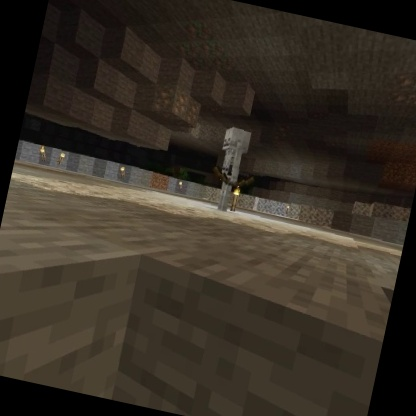skeleton: (200, 121, 268, 220)
